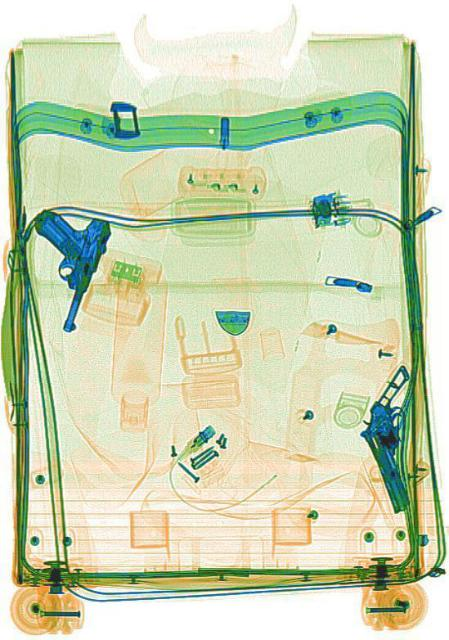Gun: (7, 186, 112, 334), (348, 363, 447, 512)
